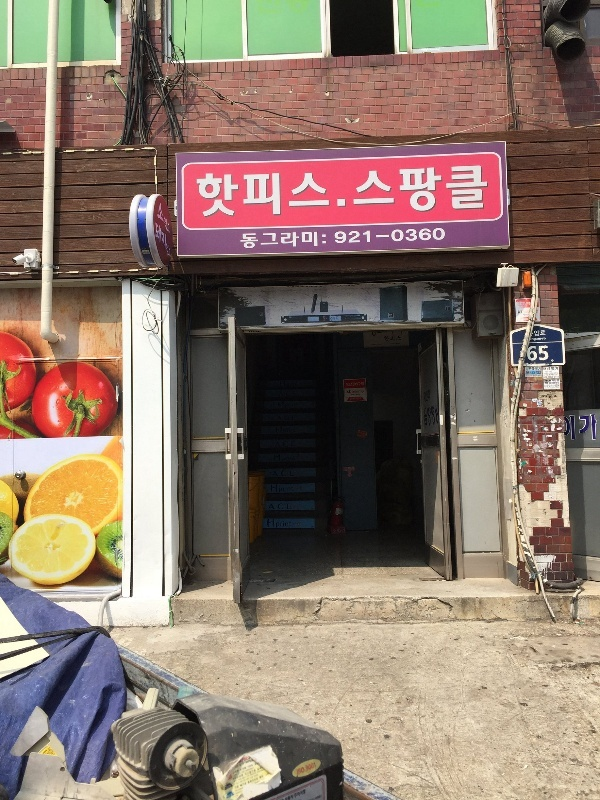text: (353, 160, 368, 217), (369, 160, 384, 217), (385, 160, 400, 217), (401, 160, 416, 217), (417, 160, 432, 217), (433, 160, 448, 217), (449, 160, 464, 217), (465, 160, 480, 217), (209, 169, 224, 223), (225, 169, 240, 223), (241, 169, 256, 223), (257, 169, 272, 223), (273, 169, 288, 223), (289, 169, 304, 223), (305, 169, 320, 223), (321, 169, 336, 223), (195, 169, 208, 223), (337, 169, 348, 223), (481, 160, 490, 217), (577, 413, 592, 444), (161, 220, 171, 260), (161, 200, 172, 236), (565, 413, 576, 444), (241, 231, 256, 252), (257, 231, 272, 252), (273, 231, 288, 252), (289, 231, 304, 252), (305, 231, 320, 252), (337, 225, 352, 246), (353, 225, 368, 246), (369, 225, 384, 246), (385, 225, 400, 246), (401, 225, 416, 246), (417, 225, 432, 246), (529, 344, 544, 364), (433, 225, 445, 246), (155, 220, 160, 260), (593, 413, 599, 444), (424, 404, 432, 427), (273, 518, 288, 529), (273, 484, 288, 495), (433, 404, 439, 427), (273, 502, 288, 511), (273, 470, 288, 479), (321, 231, 327, 252), (529, 336, 544, 344), (532, 330, 544, 340), (385, 336, 400, 343), (424, 390, 432, 403), (545, 344, 550, 364), (353, 381, 365, 388), (353, 388, 365, 394), (267, 518, 272, 529), (289, 484, 294, 495), (289, 470, 295, 479), (334, 225, 336, 246), (526, 344, 528, 364), (268, 502, 272, 511), (347, 381, 352, 388), (289, 518, 292, 529), (347, 388, 352, 394), (289, 502, 292, 511), (239, 231, 240, 252), (545, 330, 547, 340), (545, 336, 547, 344), (271, 484, 272, 495), (401, 336, 402, 343)
